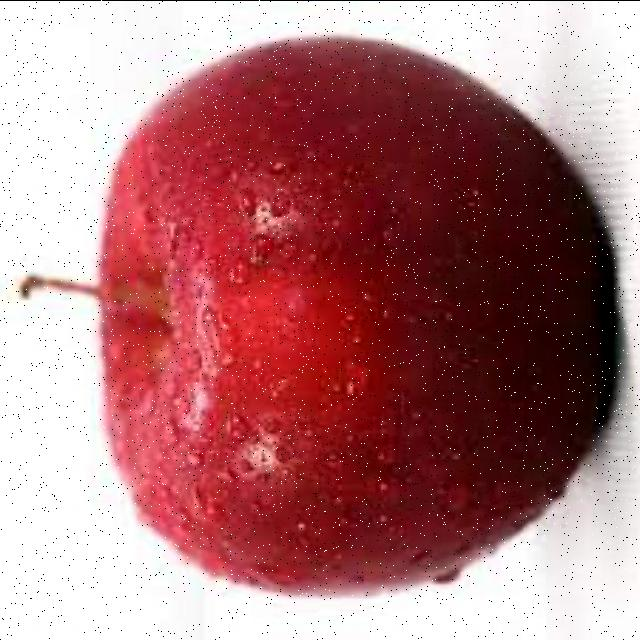HEALTHY: (46, 29, 630, 630)
